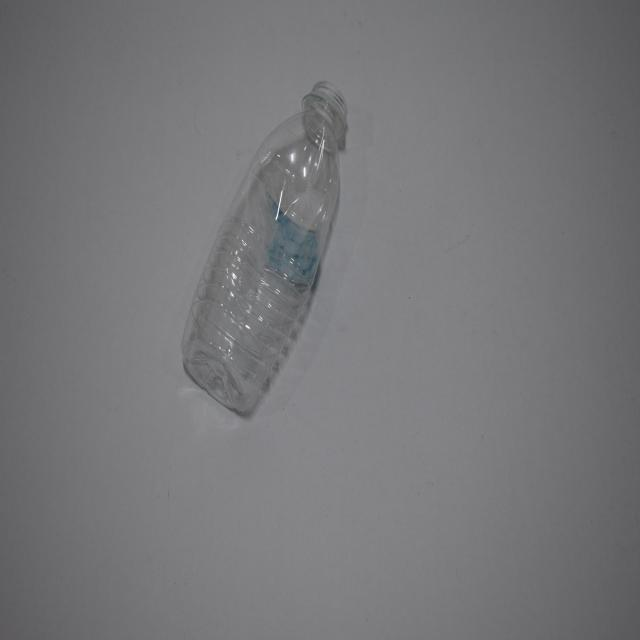bottle: (177, 62, 350, 430)
